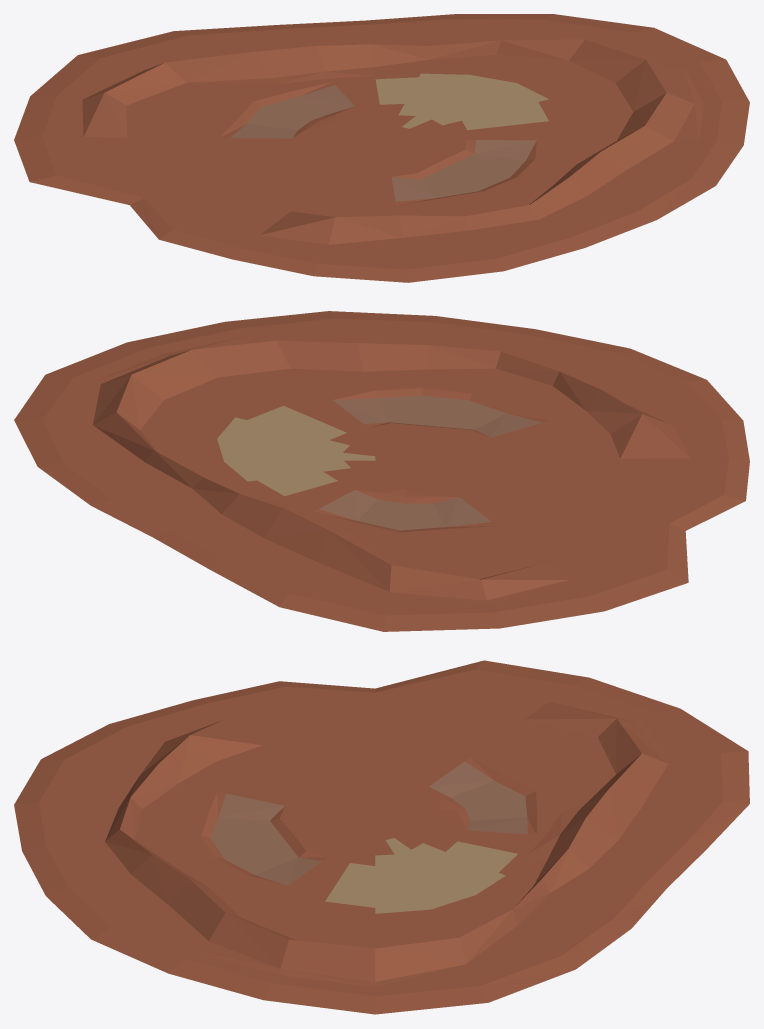
The model's file is regolith-terrain-blob-33148e.glb.
3 renders of one model, top to bottom at view 1: azimuth 30°, elevation 25°; view 2: azimuth 150°, elevation 25°; view 3: azimuth 270°, elevation 25°, orthographic. The views are drawn at different scales.
Parts seen in each view (by area): view 1: regolith; view 2: regolith; view 3: regolith.
Part boxes in pixels (x1,y1,x2,y2): regolith: [14, 14, 749, 282]; regolith: [14, 311, 749, 631]; regolith: [14, 660, 749, 1014].
Size of the model in its own units: 9.62 by 0.3089 by 8.45.
